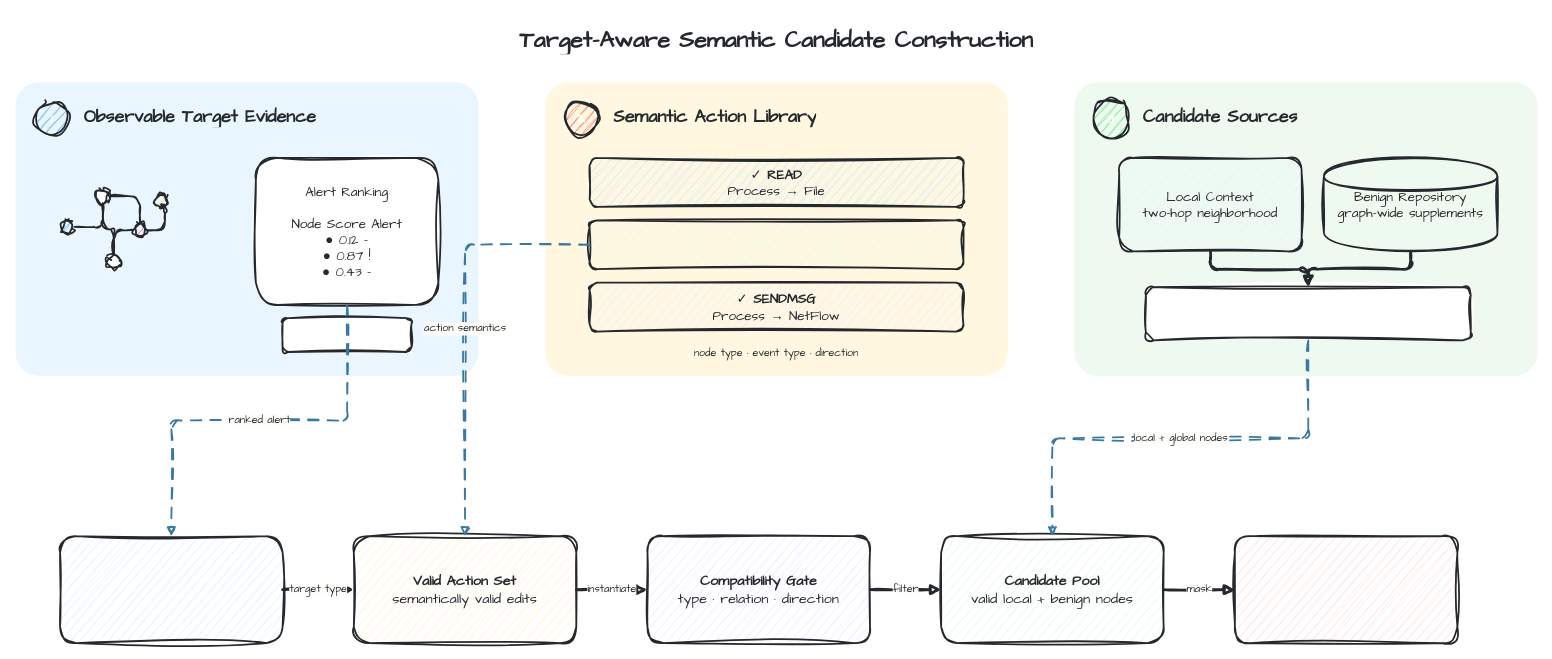
This 1552x659 diagram has some shape labels left out. Each missing label, with the centre of its shape:
Action Mask selectable target-action pairs: point 1346,589
Available local and global nodes: point 1308,313
Select Top-K: point 346,334
Target Profile target type + local context: point 171,589
✓ WRITE Process → File: point 776,244
